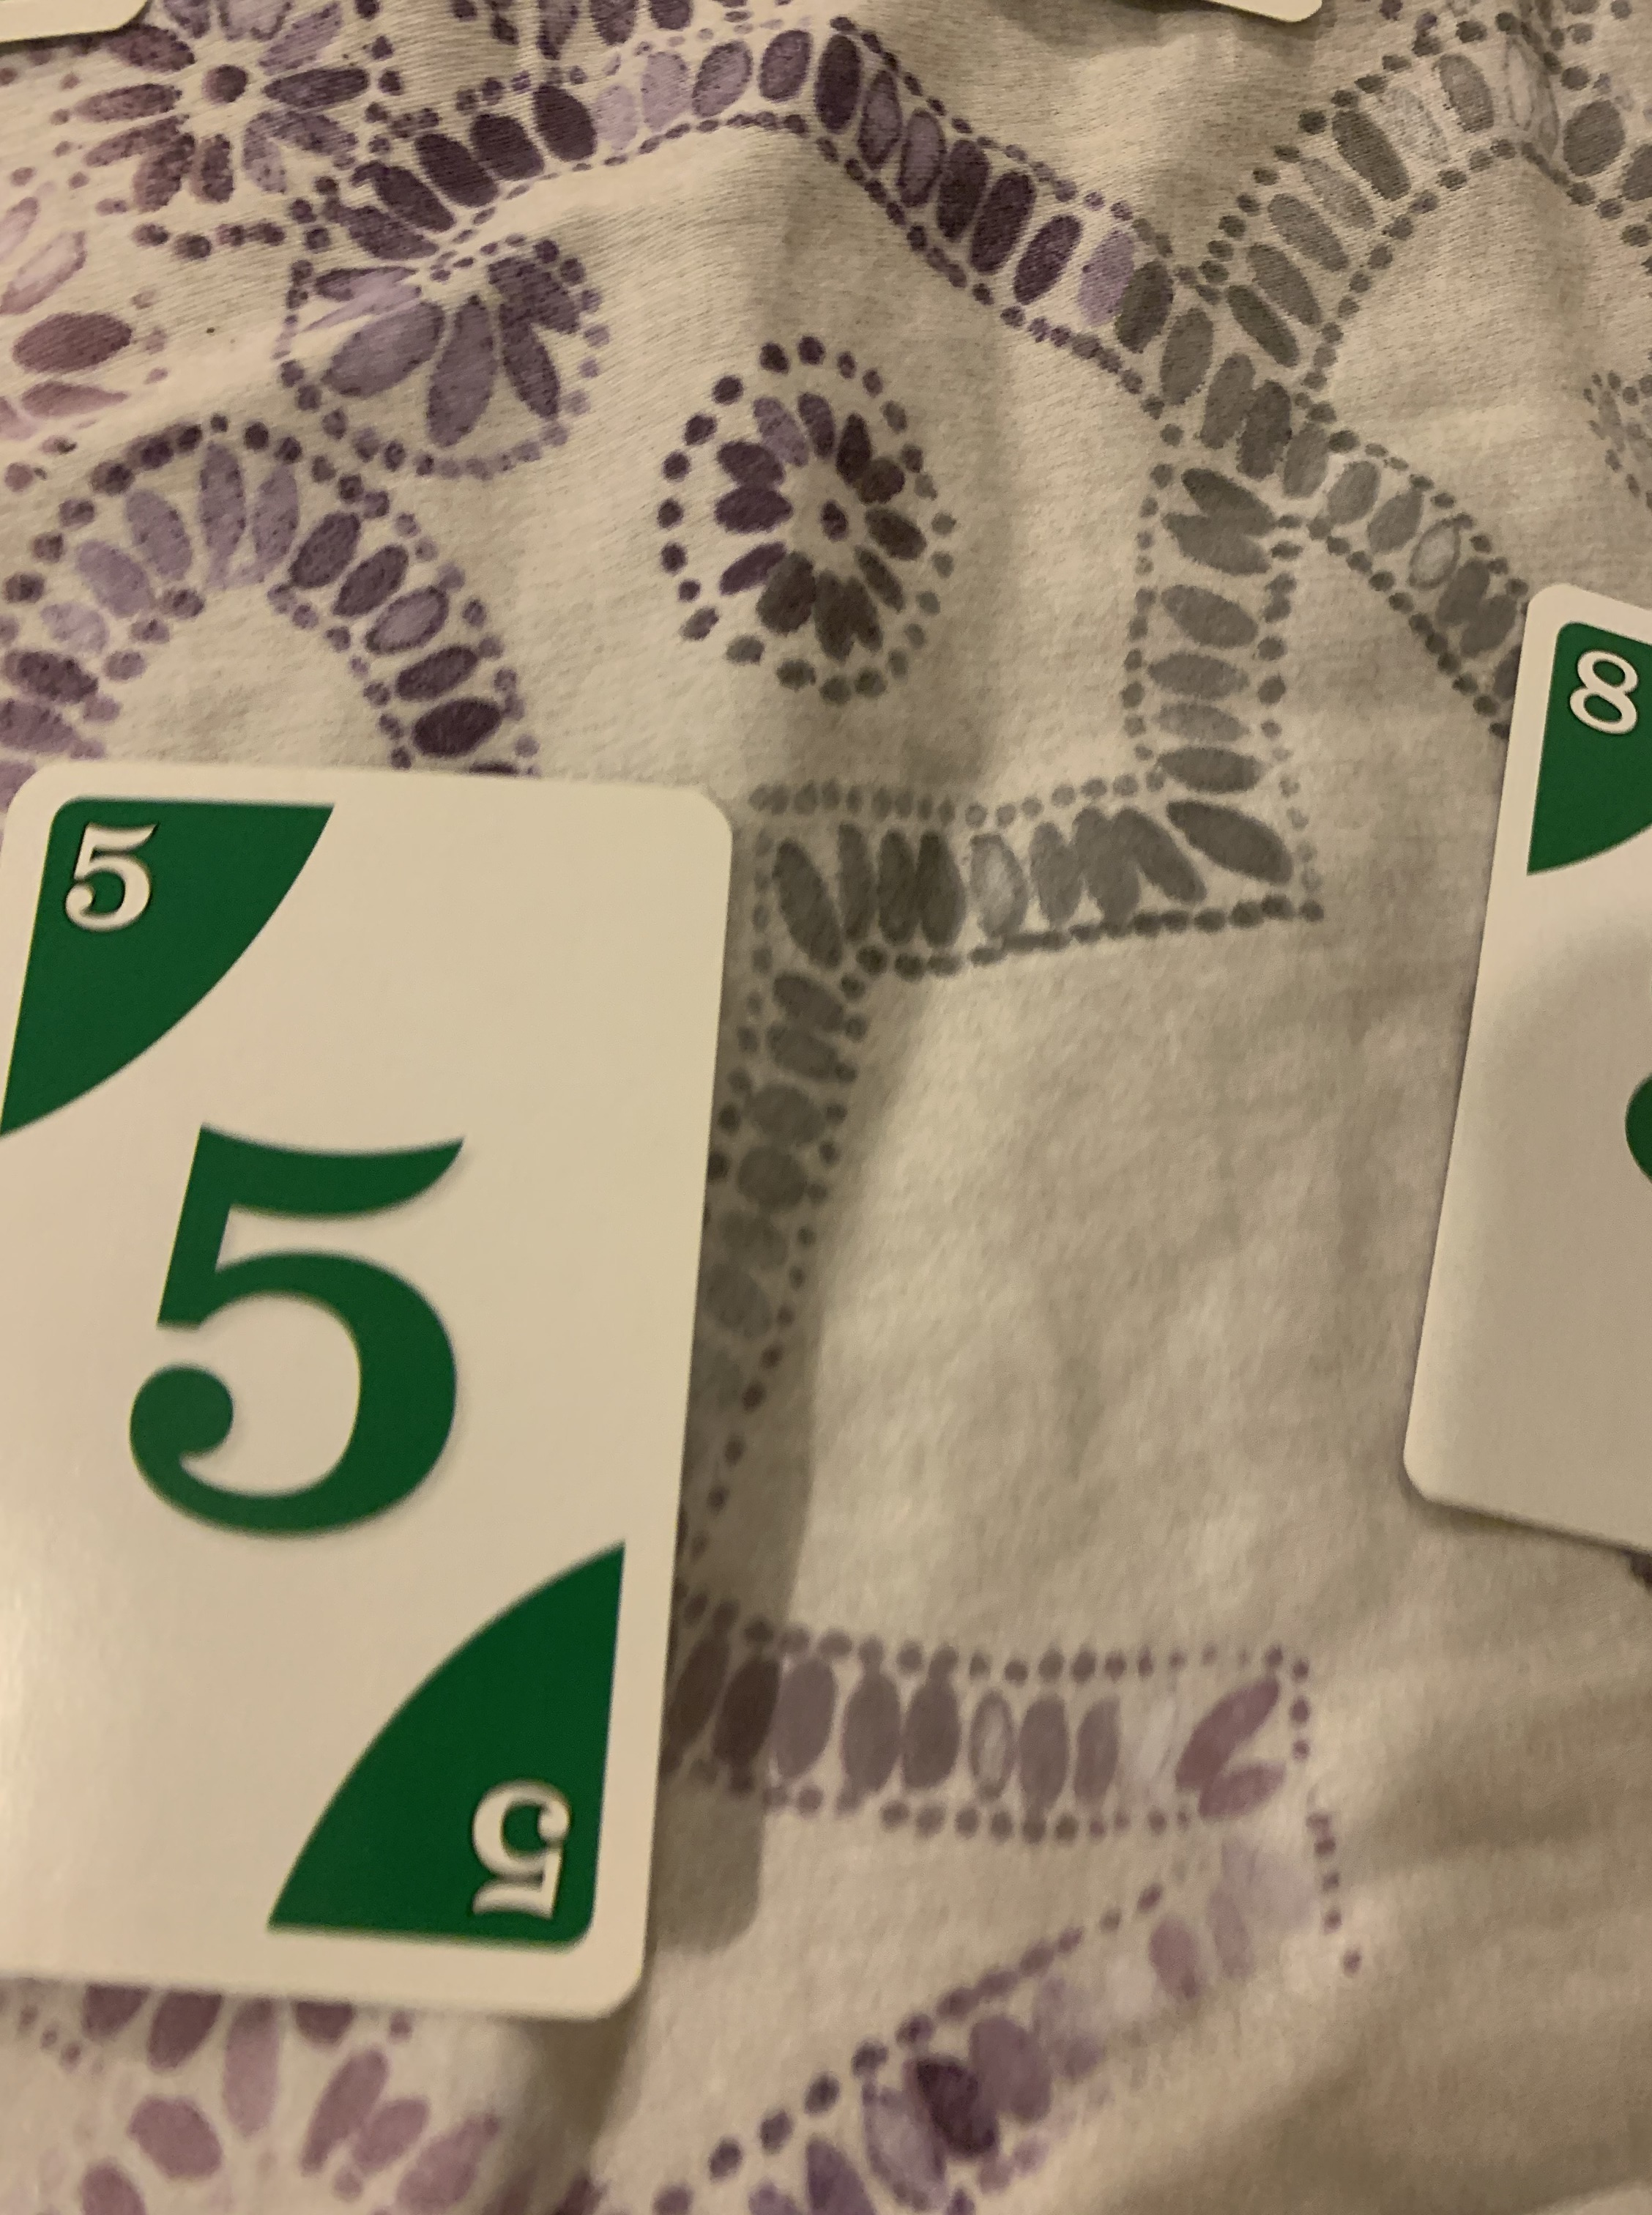five: (0, 757, 737, 2034)
